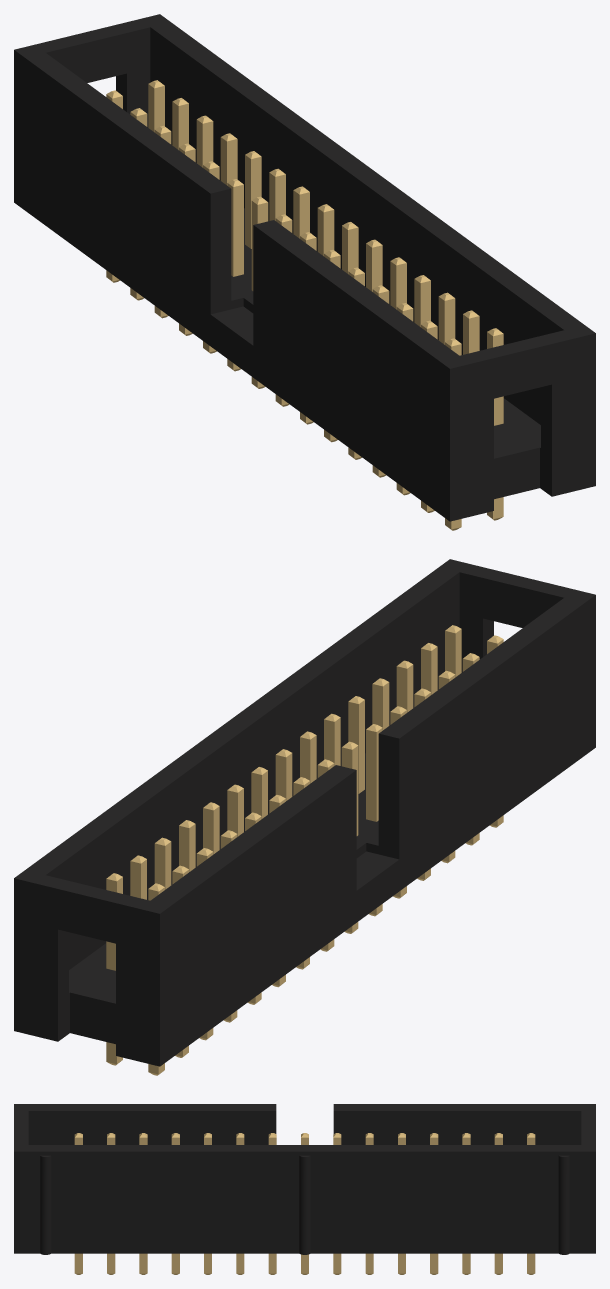
The model's file is kc-idc-header_2x15_p2.54mm_vertical.glb.
3 views of the same model, one above another, from view 1: azimuth 30°, elevation 25°; view 2: azimuth 150°, elevation 25°; view 3: azimuth 270°, elevation 25° (orthographic). The views are drawn at different scales.
Parts seen in each view (by area): view 1: 0_0_0_0, 0.75_0.5_0.25_0.9; view 2: 0_0_0_0, 0.75_0.5_0.25_0.9; view 3: 0_0_0_0, 0.75_0.5_0.25_0.9.
Part boxes in pixels (<box>): 0_0_0_0: <box>14,14,595,521</box>; 0.75_0.5_0.25_0.9: <box>106,80,503,530</box>; 0_0_0_0: <box>14,559,595,1066</box>; 0.75_0.5_0.25_0.9: <box>106,625,503,1075</box>; 0_0_0_0: <box>14,1104,595,1254</box>; 0.75_0.5_0.25_0.9: <box>74,1133,535,1274</box>.
Size of the model in its own units: 0.91 by 1.21 by 4.58.
